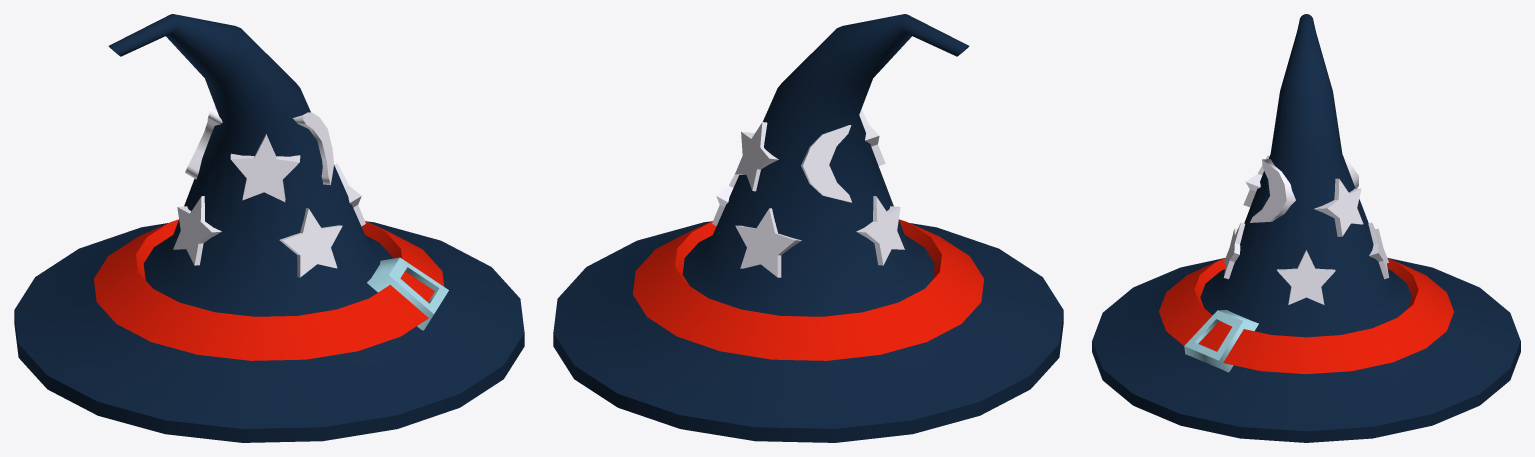
Rendered from Stargazer_Hat.fbx.
3 views of the same model, side by side, from view 1: azimuth 30°, elevation 25°; view 2: azimuth 150°, elevation 25°; view 3: azimuth 270°, elevation 25° (orthographic). The views are drawn at different scales.
Visible parts, largest first — view 1: Stargazer_Hat; view 2: Stargazer_Hat; view 3: Stargazer_Hat.
Part boxes in pixels (x1=…): Stargazer_Hat: x1=14, y1=14, x2=524, y2=442; Stargazer_Hat: x1=553, y1=14, x2=1063, y2=442; Stargazer_Hat: x1=1092, y1=14, x2=1520, y2=442.
Bounding box in the file's own units: 1.02 × 0.7517 × 1.02.
